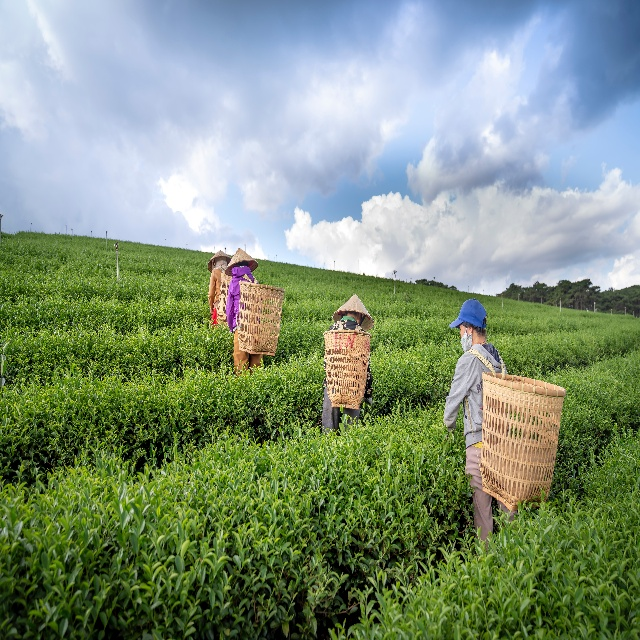Mascara: (460, 325, 472, 353)
